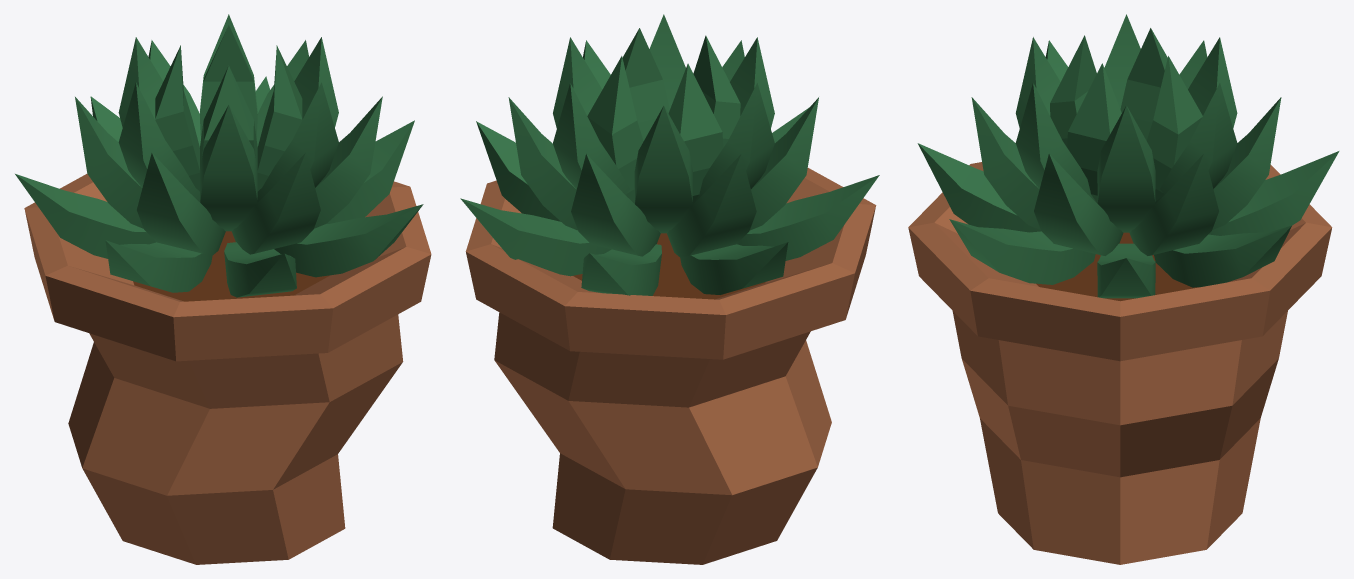
Rendered from Planta.fbx.
3 views of the same model, side by side, from view 1: azimuth 30°, elevation 25°; view 2: azimuth 150°, elevation 25°; view 3: azimuth 270°, elevation 25° (orthographic).
Visible parts, largest first — view 1: Cylinder.001, Hojas; view 2: Cylinder.001, Hojas; view 3: Cylinder.001, Hojas.
Part boxes in pixels (<box>): Cylinder.001: <box>24,174,431,564</box>; Hojas: <box>15,14,423,297</box>; Cylinder.001: <box>465,168,876,564</box>; Hojas: <box>460,14,879,295</box>; Cylinder.001: <box>908,162,1332,564</box>; Hojas: <box>917,14,1339,298</box>.
Size of the model in its own units: 46.59 by 55.79 by 46.41.
